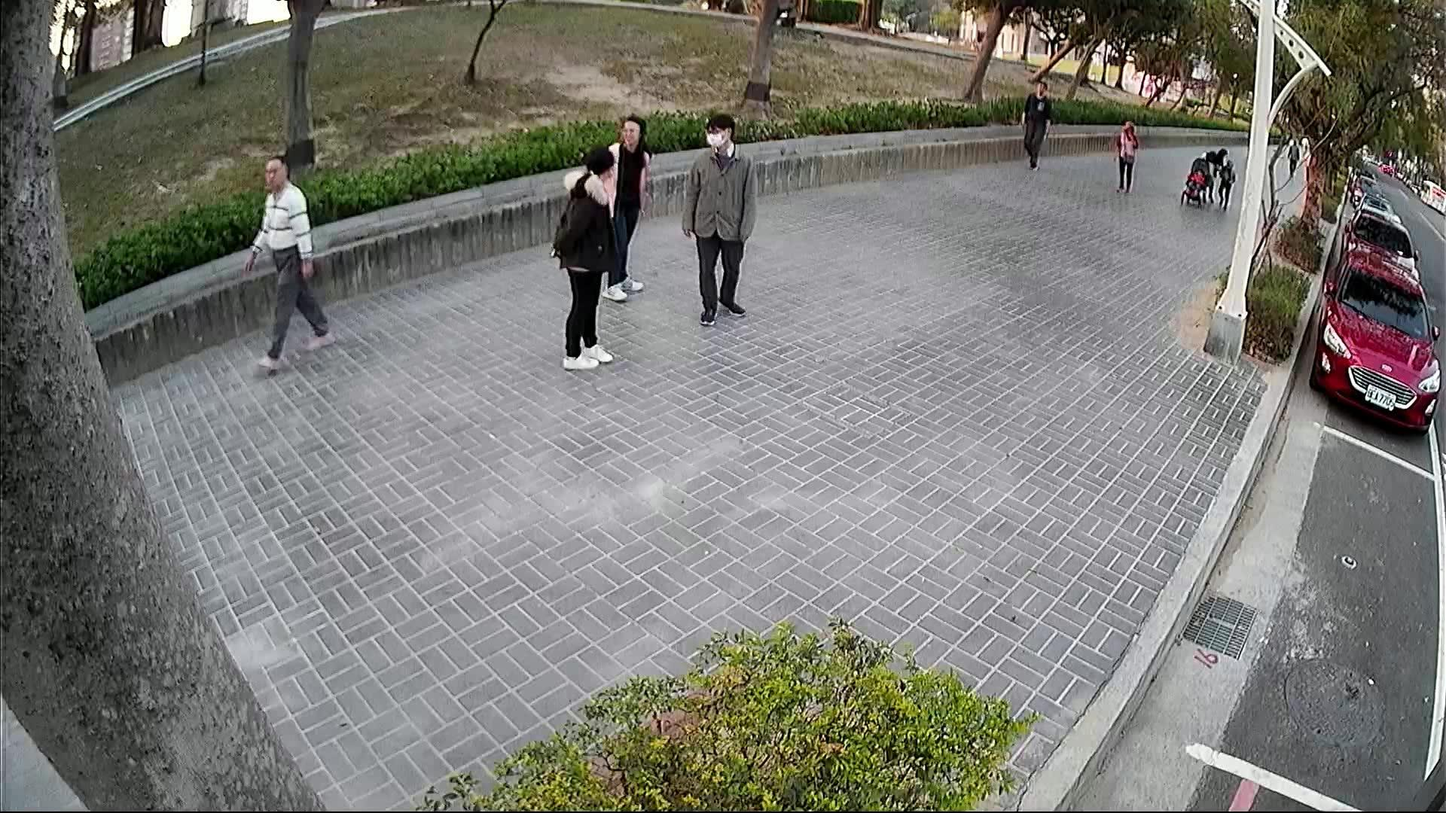person: (240, 153, 337, 370), (541, 139, 620, 373), (676, 108, 757, 328), (599, 111, 653, 306), (1015, 75, 1057, 172), (1109, 115, 1141, 195), (1196, 139, 1228, 206), (1210, 154, 1239, 213)
